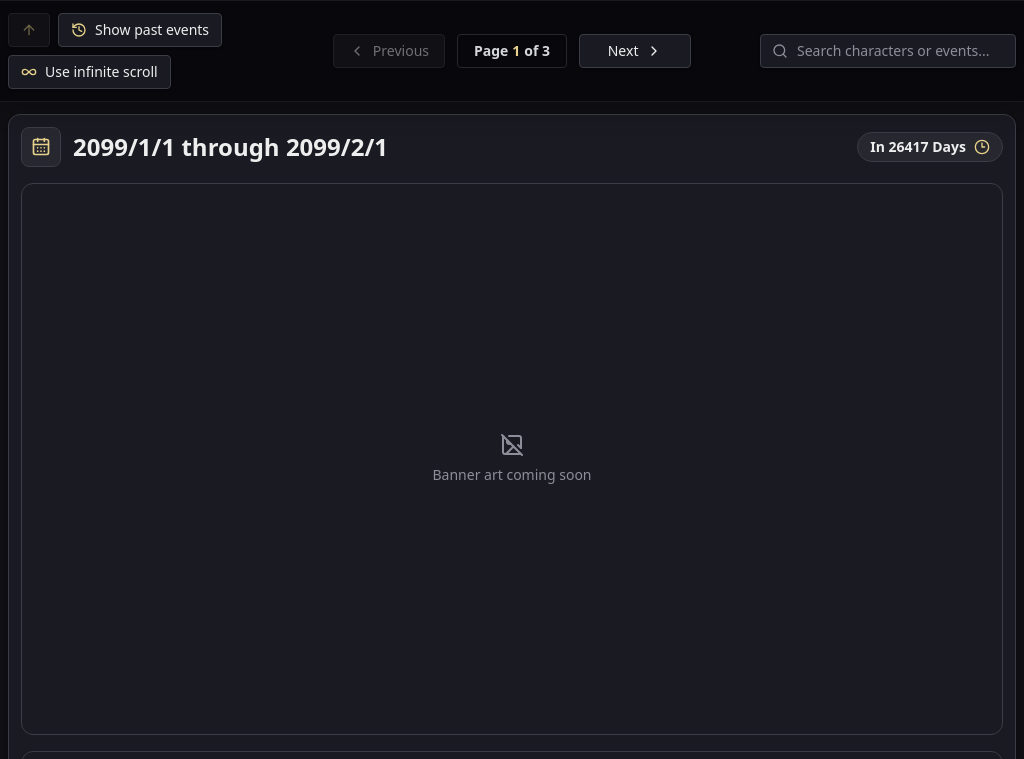
Scenario: Timeline view mode › pages through the list, reaching the last event on the final page
Click the button "Next": (635, 51) [579,34,691,68]
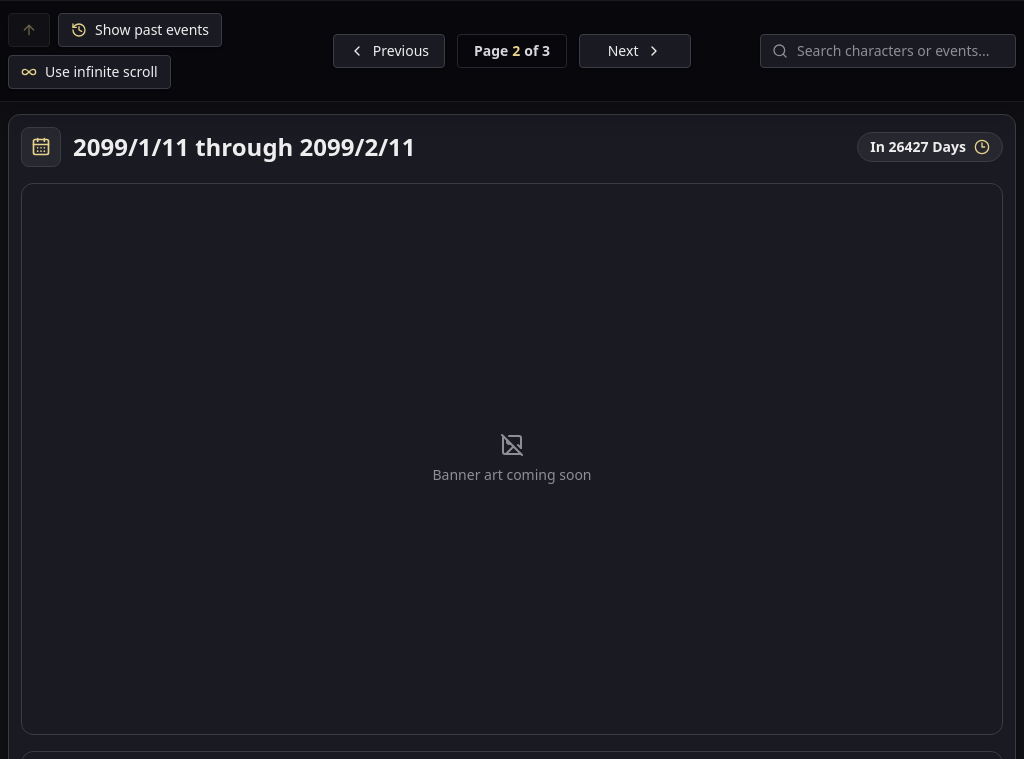
Click the button "Next": (635, 51) [579,34,691,68]
(page scrolled)
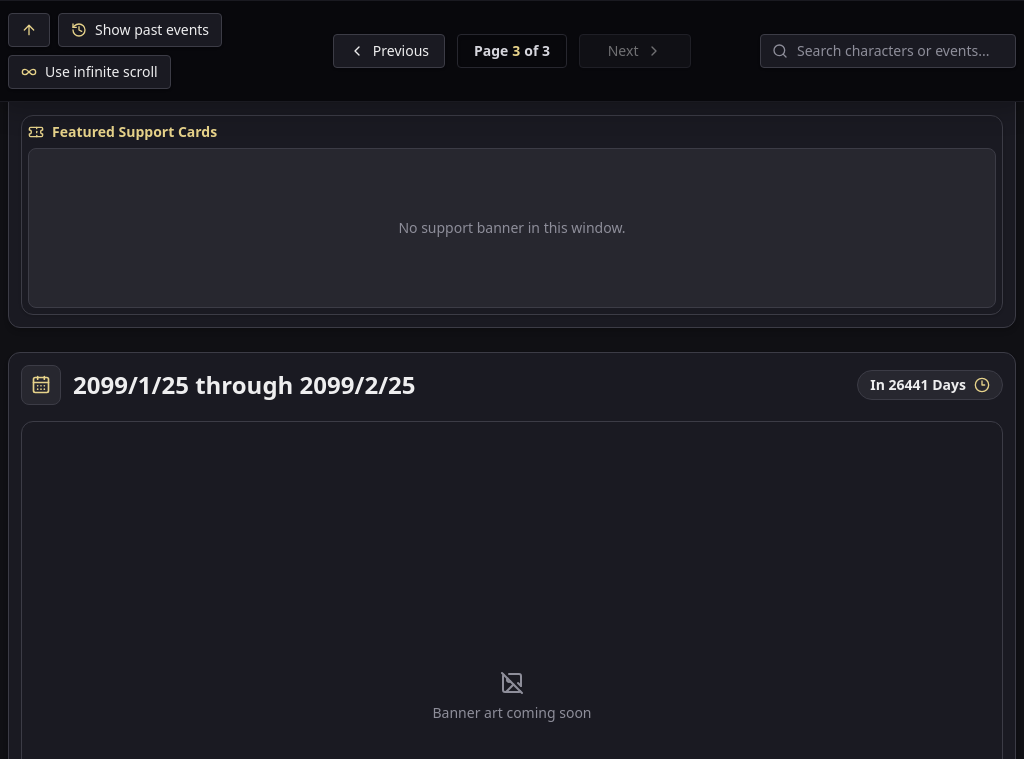
expect the text "2099/1/25 through 2099/2/25" is shown: met, box [73,368,416,400]
